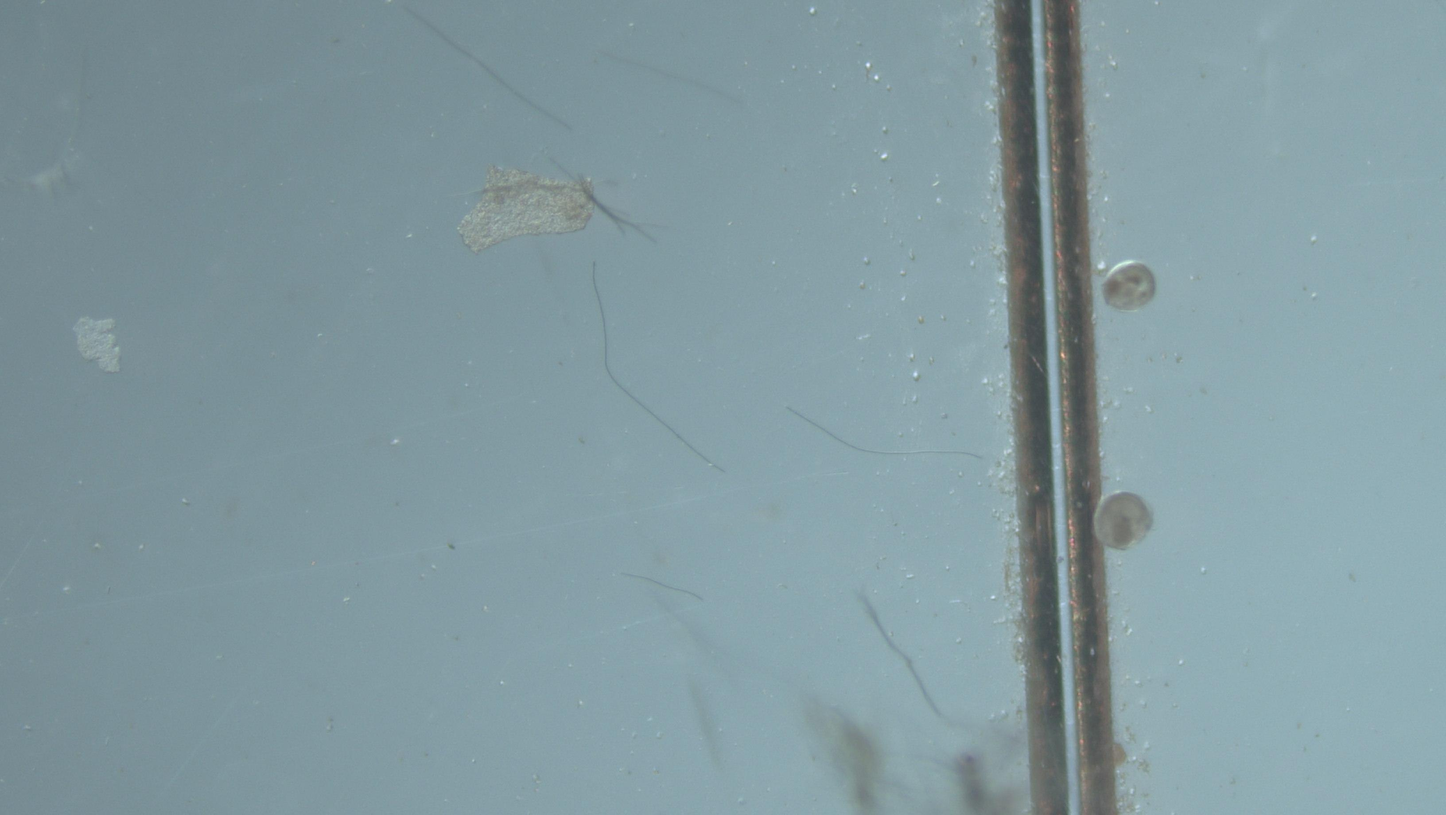live: (1094, 492, 1154, 550), (1103, 261, 1156, 311)
